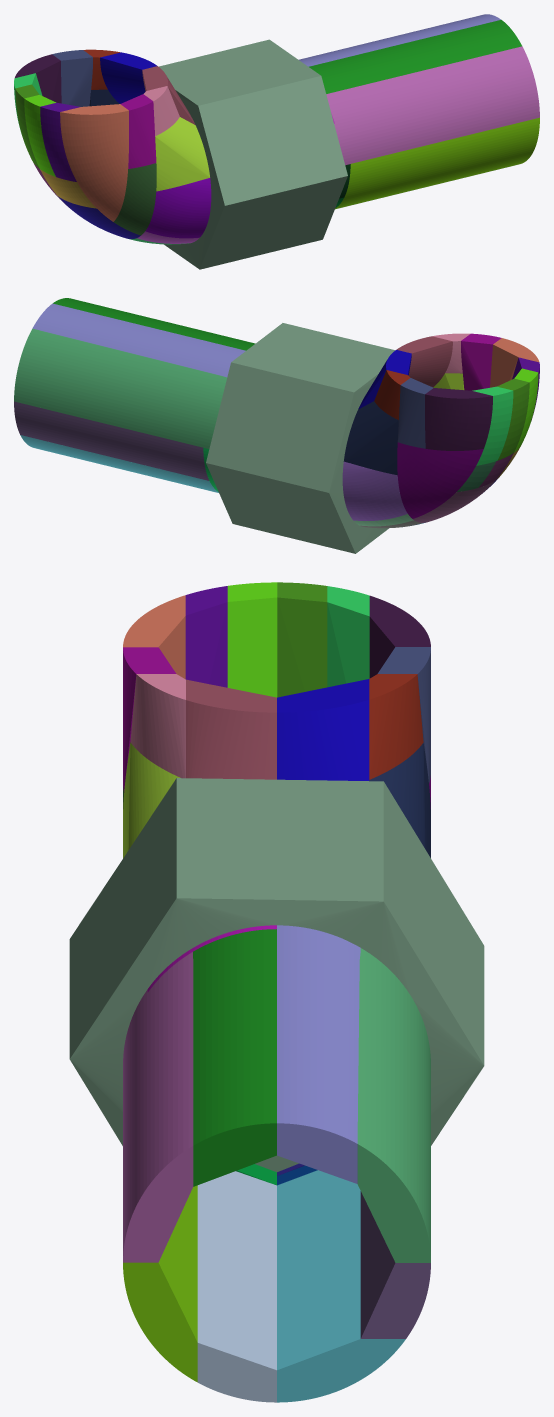
File: 4_canonical.obj
The picture shows the model from 3 angles, top to bottom: view 1: azimuth 30°, elevation 25°; view 2: azimuth 150°, elevation 25°; view 3: azimuth 270°, elevation 25°; orthographic projection. The views are drawn at different scales.
Parts seen in each view (by area): view 1: geometry_0, geometry_7, geometry_4, geometry_8, geometry_9, geometry_32, geometry_34, geometry_19, geometry_12, geometry_14, geometry_5, geometry_16 (+12 smaller); view 2: geometry_0, geometry_3, geometry_1, geometry_12, geometry_11, geometry_26, geometry_21, geometry_40, geometry_2, geometry_8, geometry_13, geometry_16 (+14 smaller); view 3: geometry_0, geometry_8, geometry_12, geometry_2, geometry_3, geometry_7, geometry_6, geometry_5, geometry_13, geometry_4, geometry_1, geometry_17 (+11 smaller).
Part boxes in pixels (<box>): geometry_0: <box>159,39,347,269</box>; geometry_7: <box>326,46,539,165</box>; geometry_4: <box>335,117,539,209</box>; geometry_8: <box>309,19,521,93</box>; geometry_9: <box>60,104,128,221</box>; geometry_32: <box>145,178,211,238</box>; geometry_34: <box>155,117,209,191</box>; geometry_19: <box>113,163,156,235</box>; geometry_12: <box>299,14,500,66</box>; geometry_14: <box>120,94,156,168</box>; geometry_5: <box>100,52,156,103</box>; geometry_16: <box>52,50,92,106</box>; geometry_0: <box>206,323,394,553</box>; geometry_3: <box>14,328,226,448</box>; geometry_1: <box>14,401,209,480</box>; geometry_12: <box>32,303,245,377</box>; geometry_11: <box>397,442,483,518</box>; geometry_26: <box>425,388,492,450</box>; geometry_21: <box>343,401,398,475</box>; geometry_40: <box>342,461,407,520</box>; geometry_2: <box>20,435,218,492</box>; geometry_8: <box>53,298,255,350</box>; geometry_13: <box>396,336,452,387</box>; geometry_16: <box>397,378,433,448</box>; geometry_0: <box>69,778,484,1172</box>; geometry_8: <box>193,929,276,1186</box>; geometry_12: <box>277,925,360,1183</box>; geometry_2: <box>277,1170,405,1402</box>; geometry_3: <box>357,948,430,1262</box>; geometry_7: <box>123,952,193,1262</box>; geometry_6: <box>197,1171,276,1402</box>; geometry_5: <box>277,679,369,780</box>; geometry_13: <box>186,679,276,779</box>; geometry_4: <box>123,1185,197,1382</box>; geometry_1: <box>360,1191,430,1338</box>; geometry_17: <box>227,582,277,697</box>.
Size of the model in its own units: 0.0465 by 0.0177 by 0.0175.
